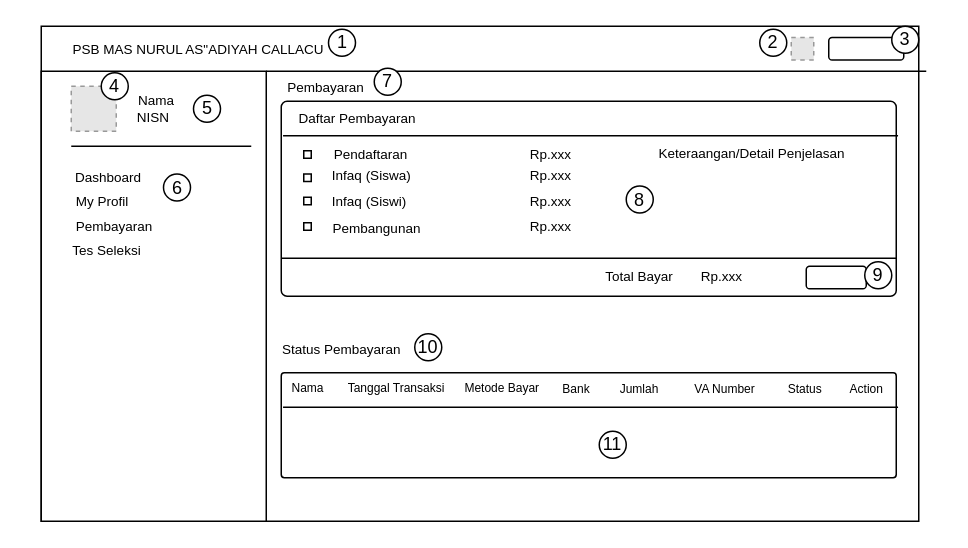
Image size: 968x548. Some labels were removed from this diagram. Grey dashed boxes stand in for pictures. Each missing label, with the centre of its shape:
"BAYAR" goes at (x=835, y=277).
"KELUAR" goes at (x=865, y=48).
